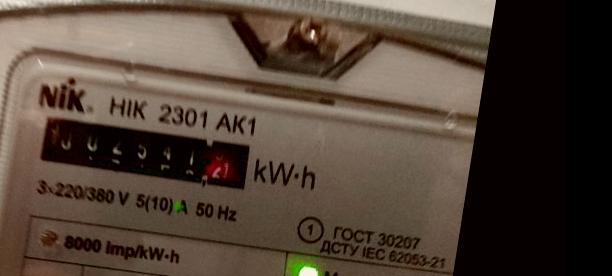0: (55, 124, 76, 152), (83, 125, 101, 154)
1: (182, 139, 199, 167)
2: (107, 129, 126, 156)
4: (158, 136, 175, 161)
5: (131, 132, 153, 162)
6: (207, 160, 225, 180)
screen: (25, 98, 267, 204)
